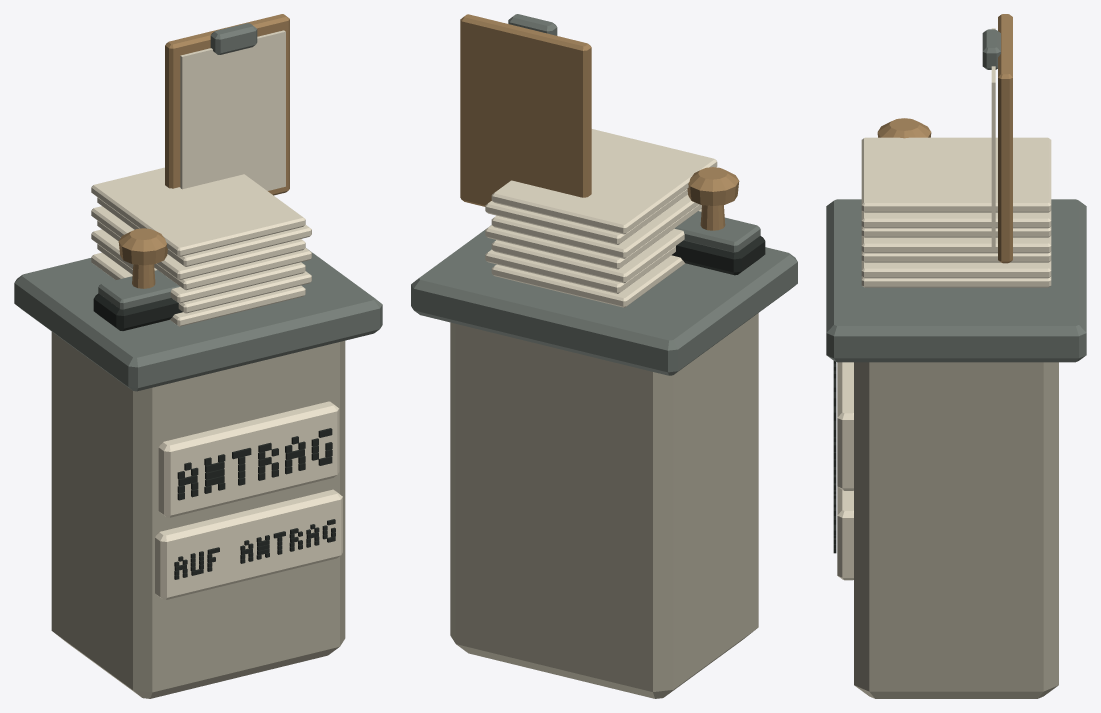
File: forms-pedestal.glb
3 renders of one model, left to right at view 1: azimuth 30°, elevation 25°; view 2: azimuth 150°, elevation 25°; view 3: azimuth 270°, elevation 25°, orthographic. The views are drawn at different scales.
Parts seen in each view (by area): view 1: forms-pedestal; view 2: forms-pedestal; view 3: forms-pedestal.
Part boxes in pixels (x1,y1,x2,y2): forms-pedestal: (14, 14, 382, 698); forms-pedestal: (411, 14, 797, 698); forms-pedestal: (826, 14, 1086, 698).
Bounding box in the file's own units: 1.03 × 2.3 × 0.85.
